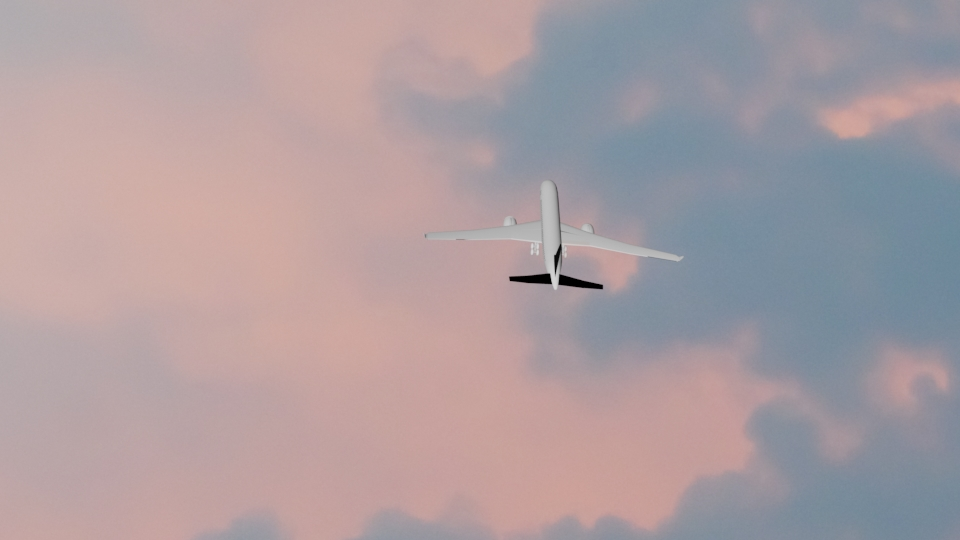plane: (421, 178, 685, 289)
